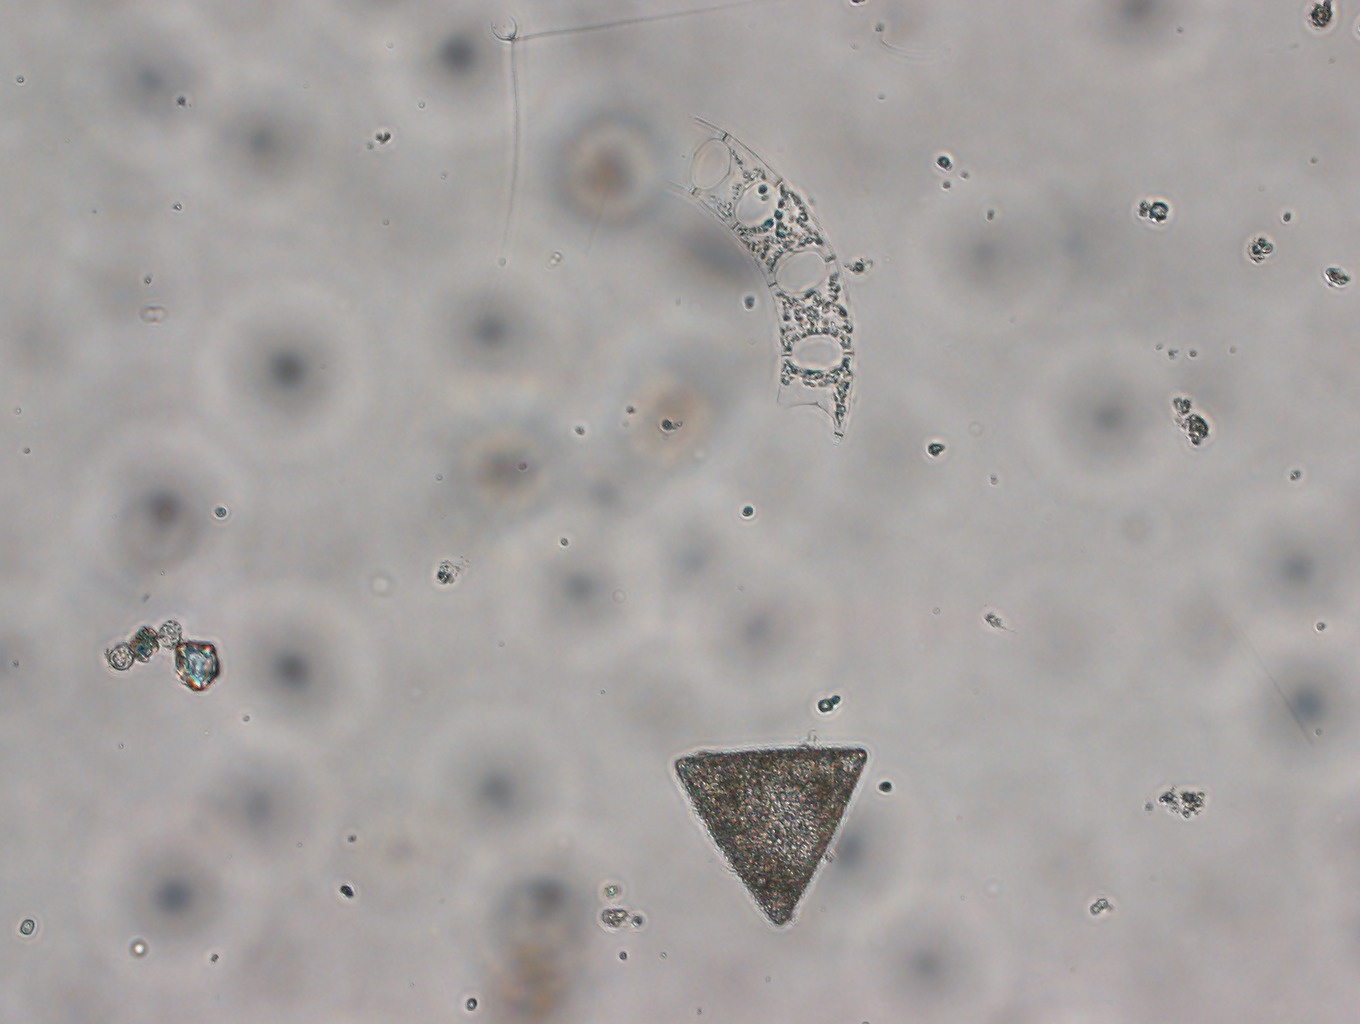eucampia: (669, 110, 862, 444)
